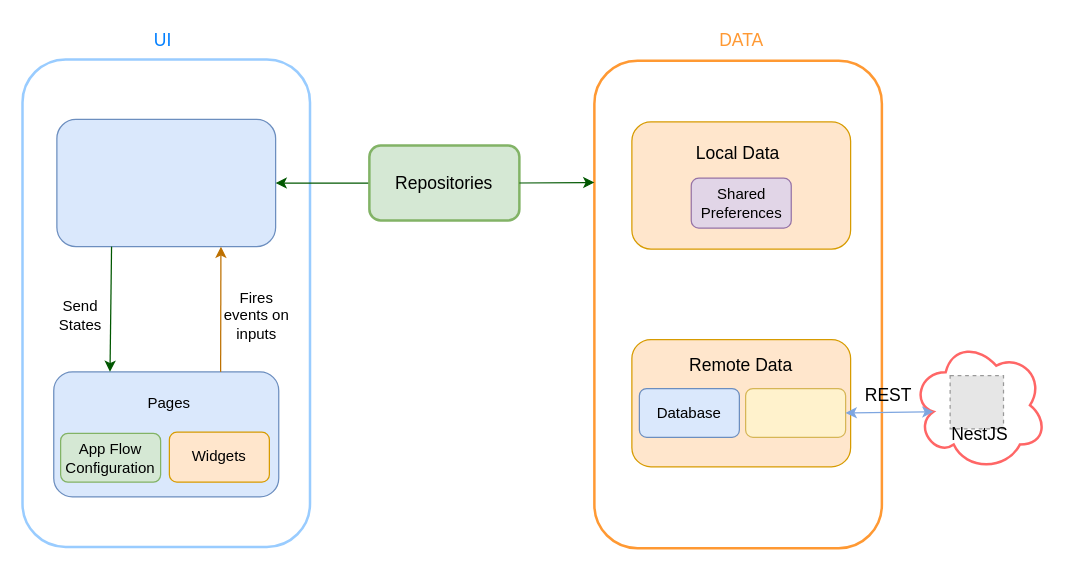
Some shapes in this 1070 by 570 pixel diagram are drawn without their labels. Grey dashed boxes stand in for pictures. The shapes that lost their labels are listed below. From the top down, each one's box as (x1, y1, x2, y2) in pixels, then its label:
(56, 118, 276, 247): BLOC
(744, 387, 846, 437): API
